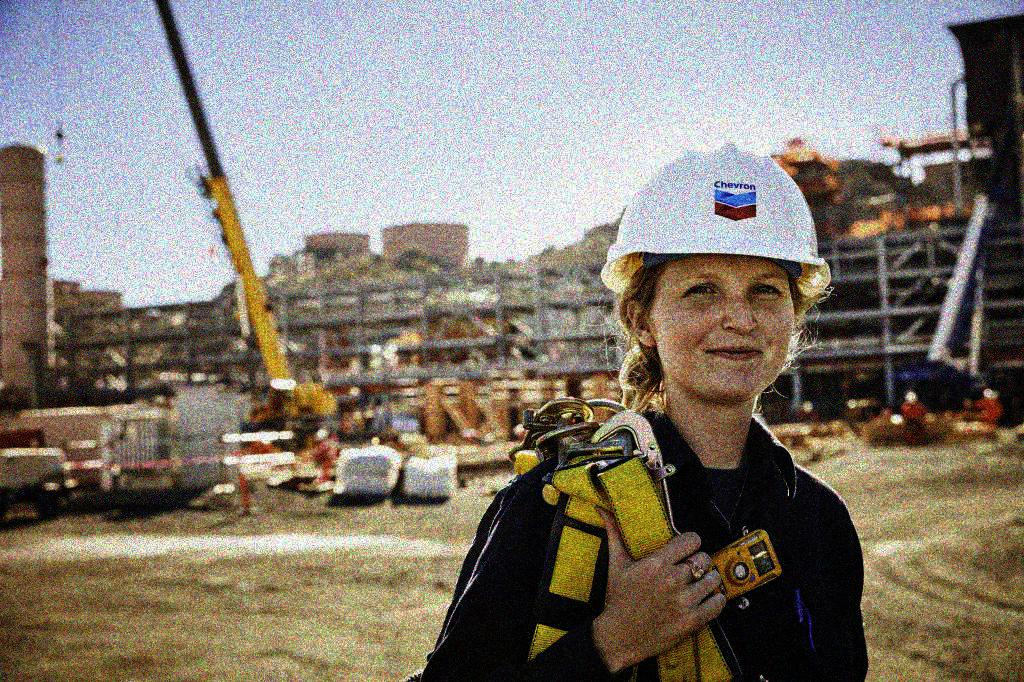helmet: (599, 142, 830, 408)
